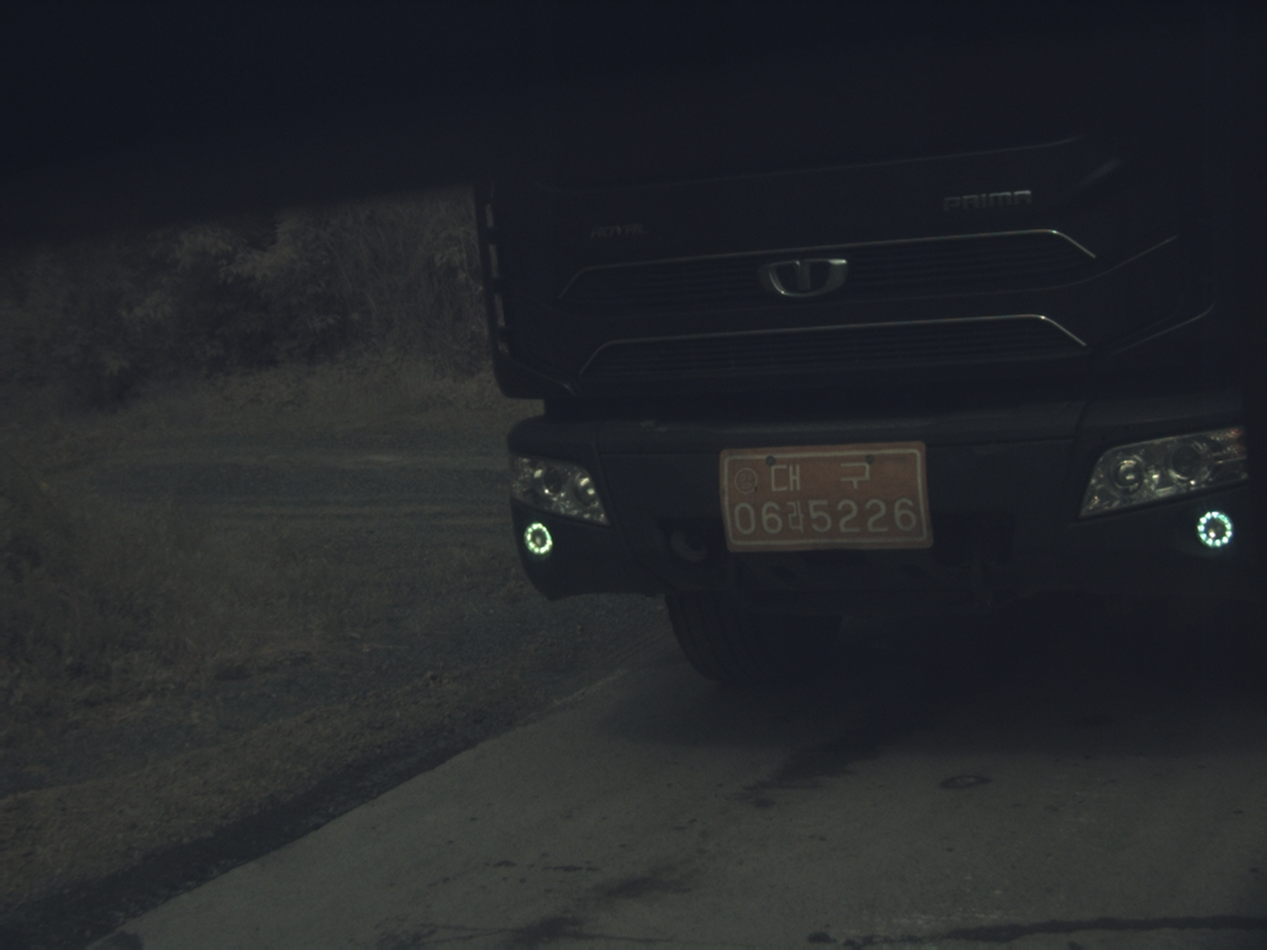license_plate: (720, 443, 930, 551)
truck: (478, 6, 1252, 681)
